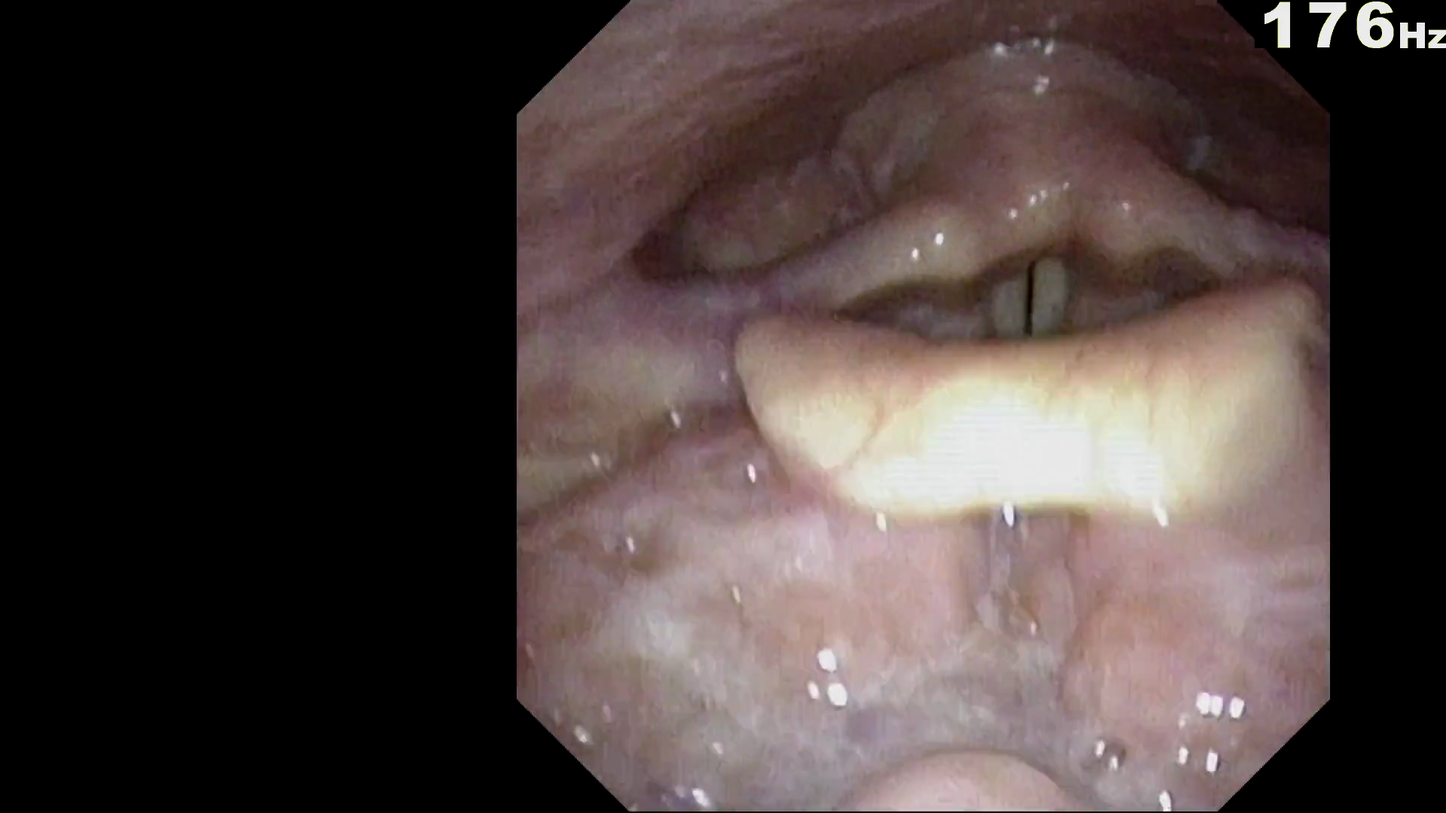epiglottis: (726, 243, 1321, 527)
trachea: (962, 220, 1109, 374)
